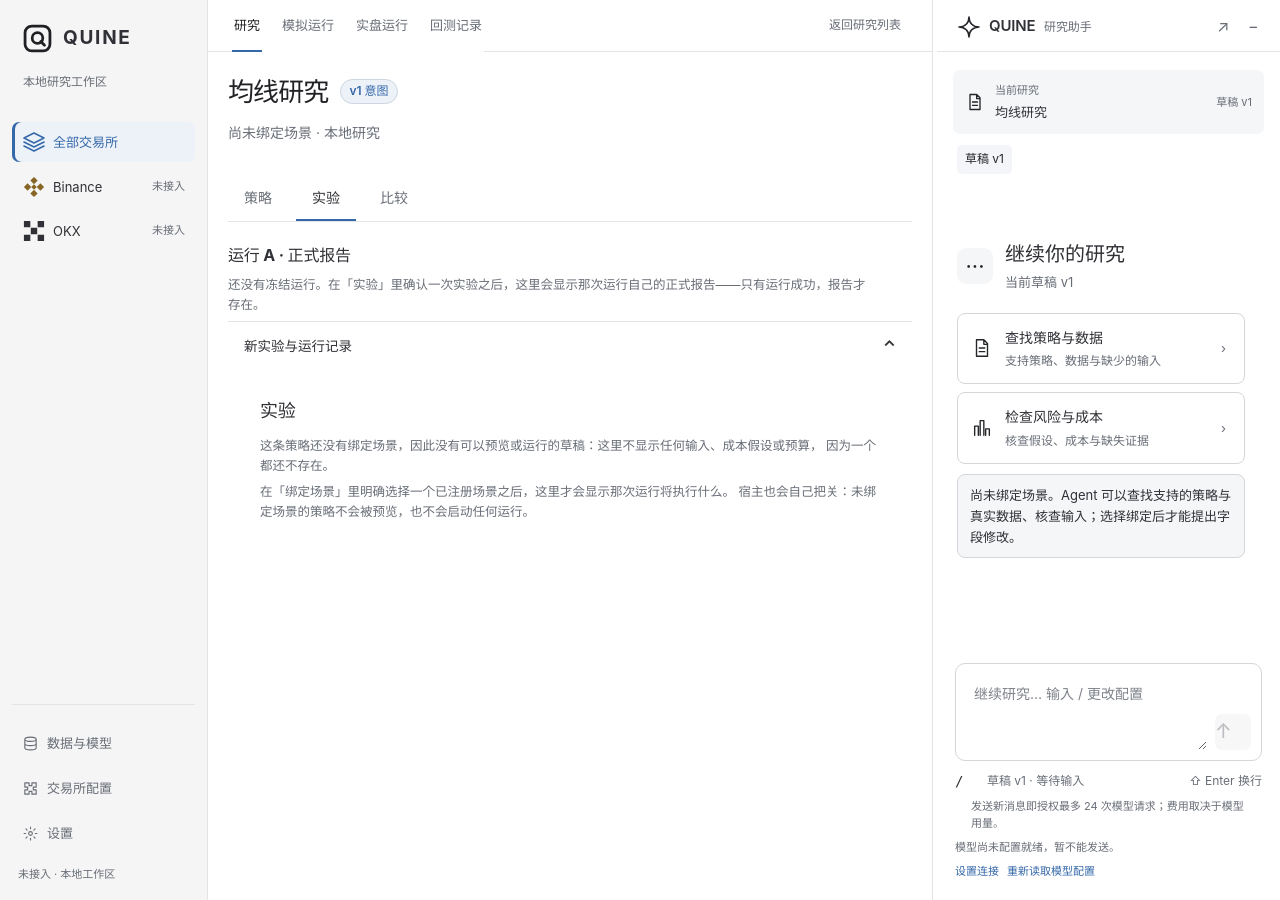
Test: keeps management independent and returns to the actual report
Expected: the heading "均线研究" is shown, [228,74,328,109]
Click the link "数据与模型". click: (67, 743)
box: [22,734,112,752]
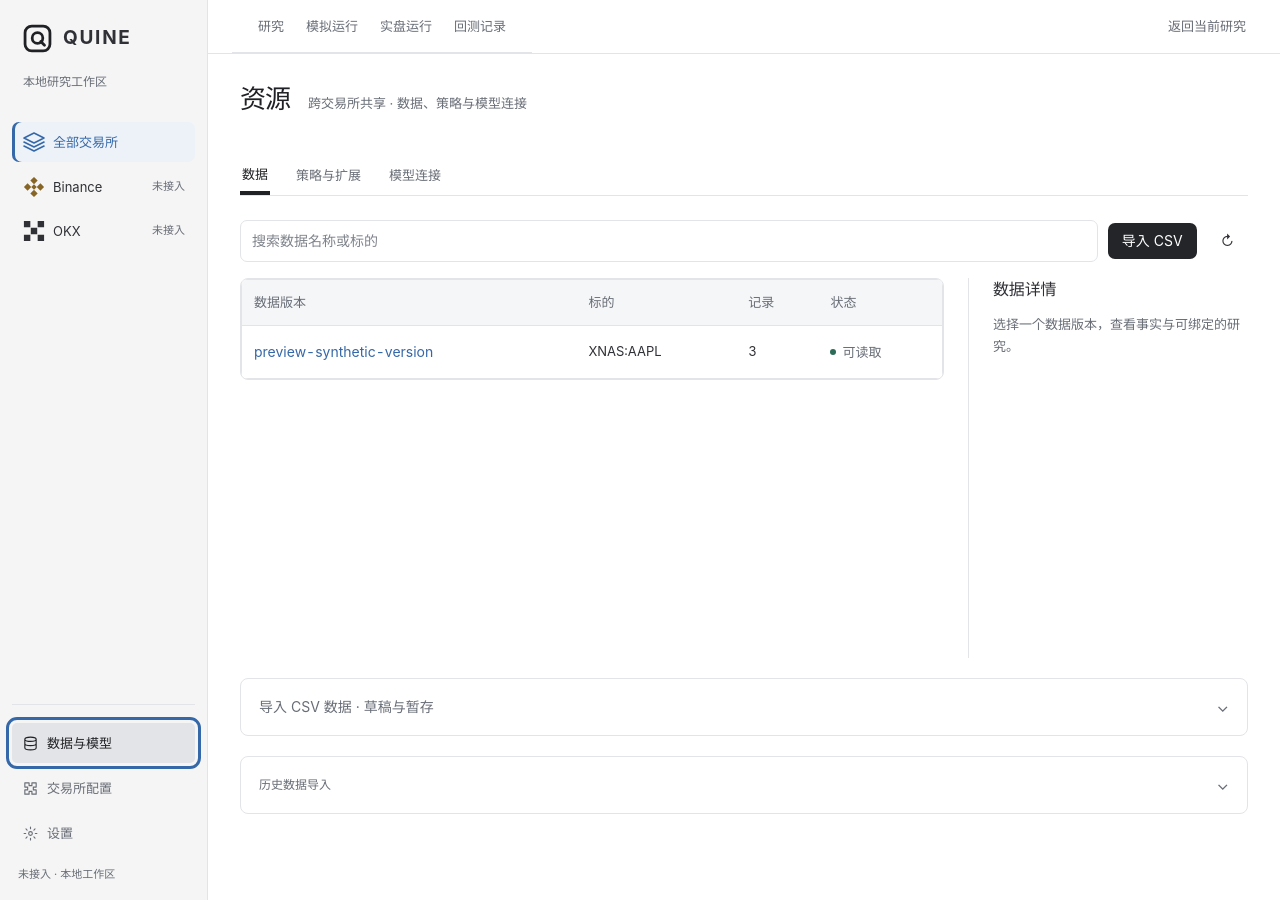
Expected: the number of navigation bars named "主导航" is 1, [232,0,532,53]
Click the link "设置". click: (48, 833)
box: [22,825,73,842]
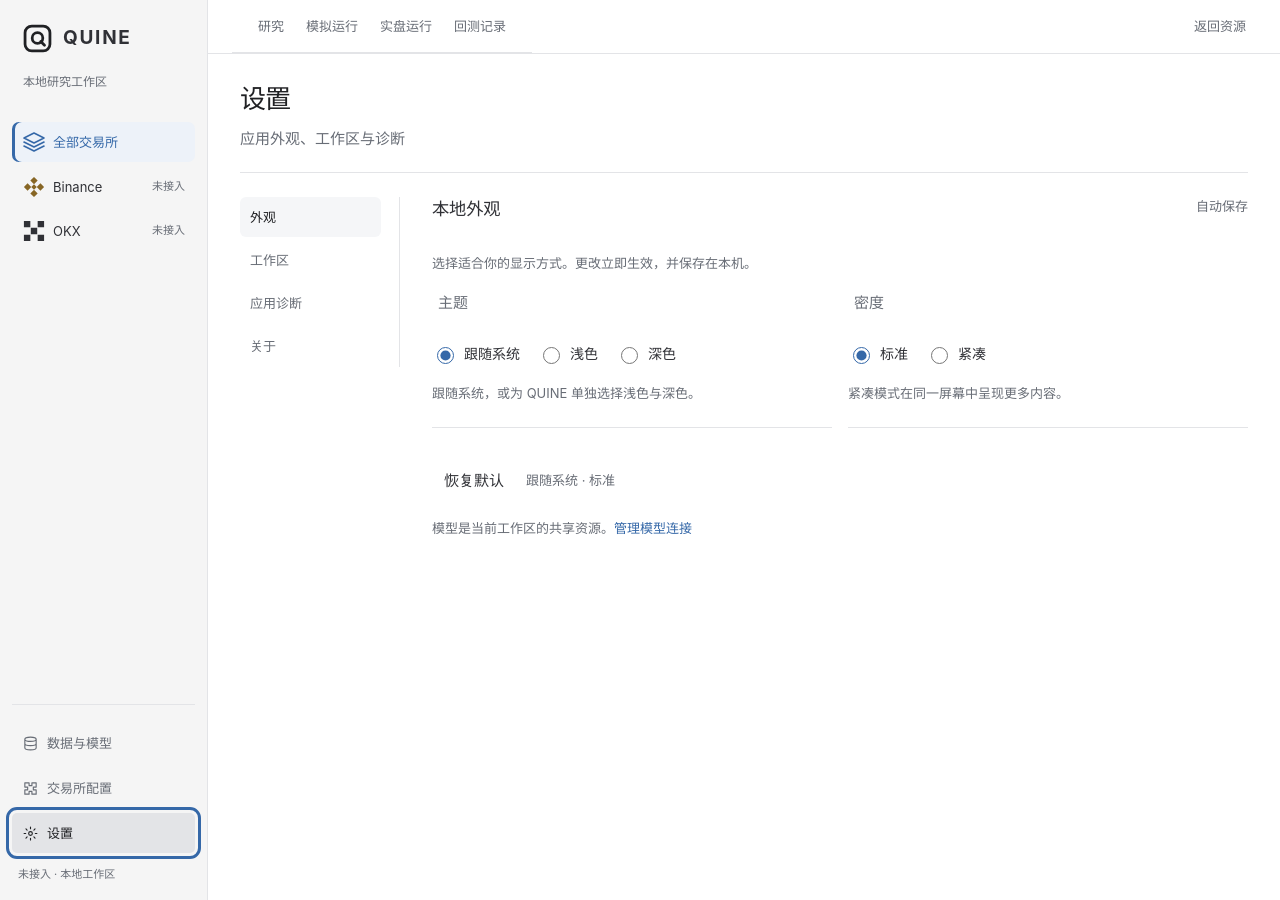
Click the link "管理模型连接". click: (653, 528)
box: [614,520,692,536]
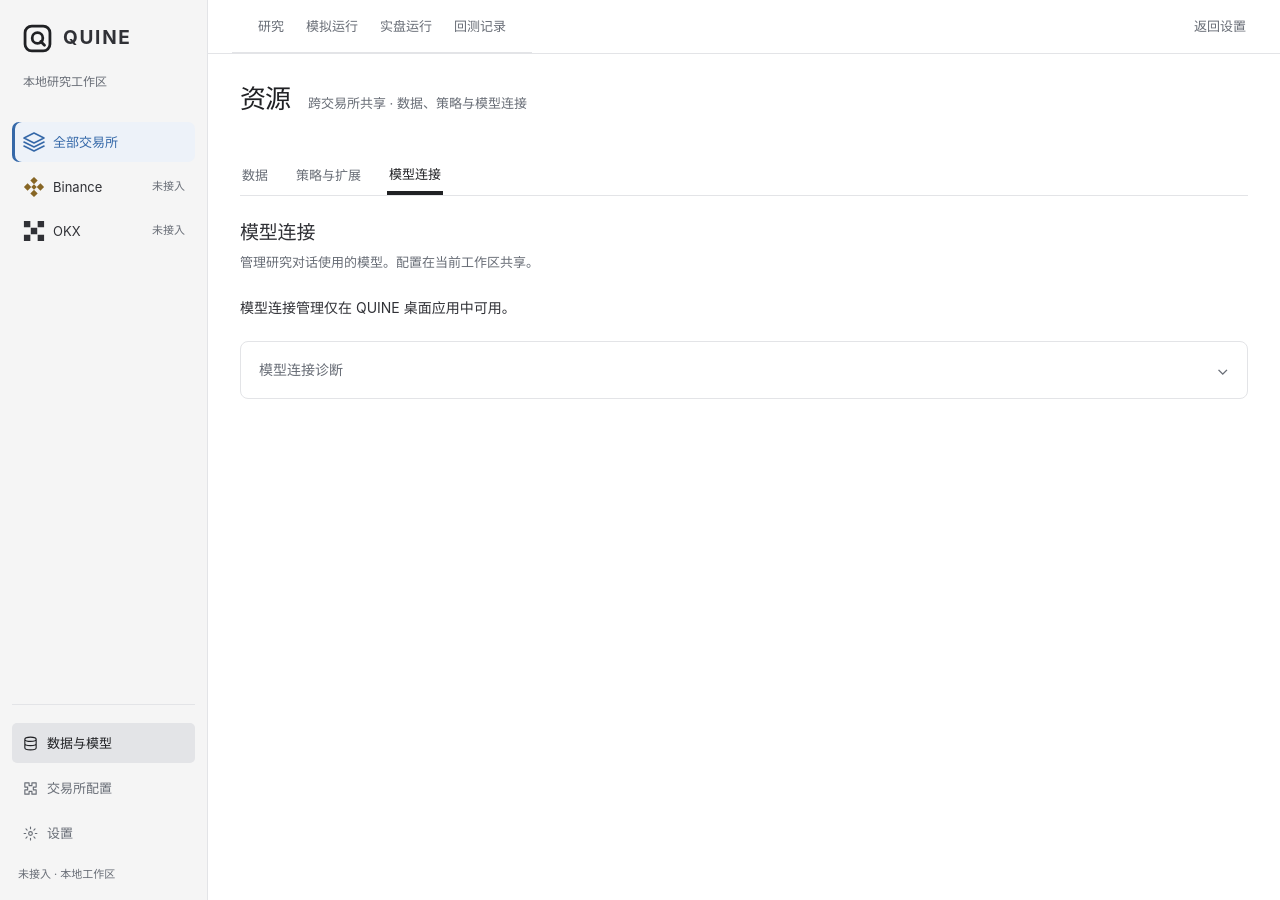
Expected: the link "返回设置" is shown, [1194,18,1246,34]
